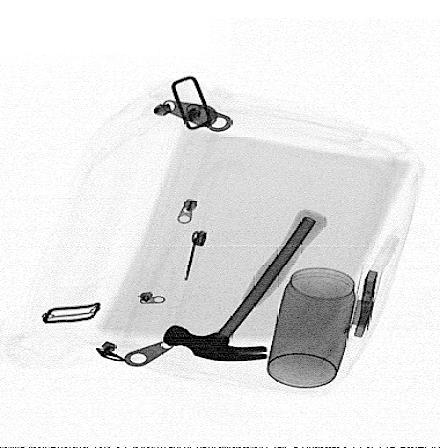Hammer: (162, 208, 328, 362)
